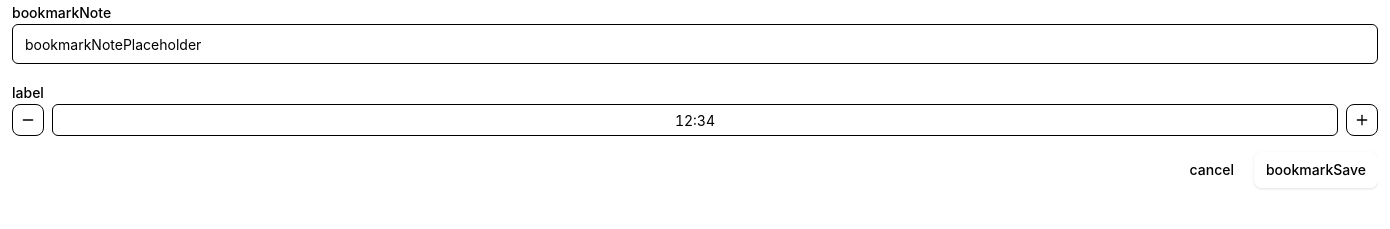
Test: BookmarkForm › disables save when the timestamp is past the end of the book
Replace the text in the field labelled "label" with "2:00:00" at (695, 120), box [52, 104, 1338, 136]
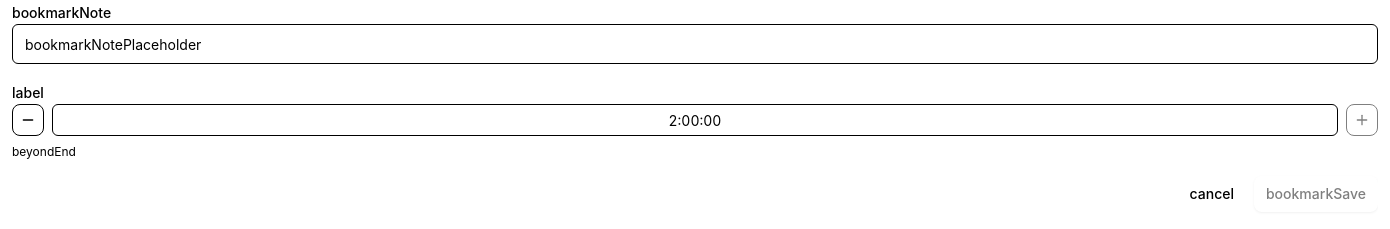
Expected: the button "bookmarkSave" is disabled, [1254, 176, 1378, 212]
Expected: the message reads "beyondEnd", [12, 144, 76, 159]
